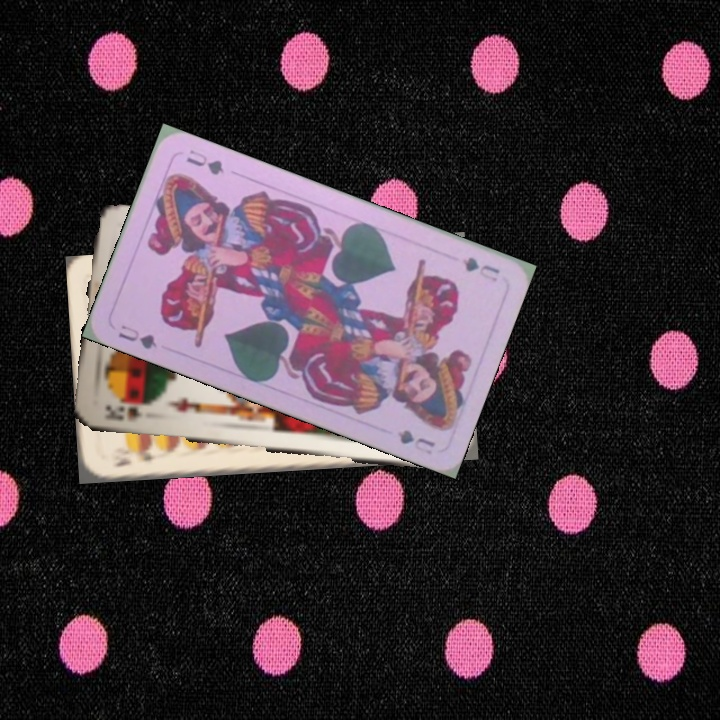E10: (111, 444, 158, 469)
GU: (114, 320, 160, 352), (458, 253, 503, 285)
SK: (100, 401, 145, 424)
